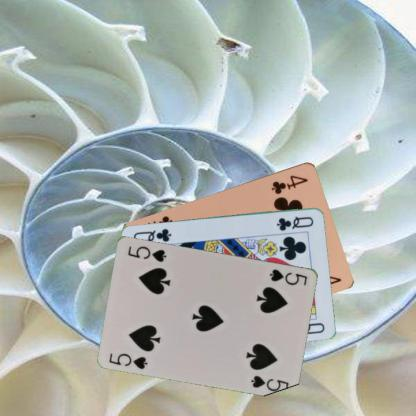4c: (268, 172, 310, 195)
5s: (107, 350, 150, 370), (267, 266, 308, 286)
Qc: (274, 213, 315, 232)
